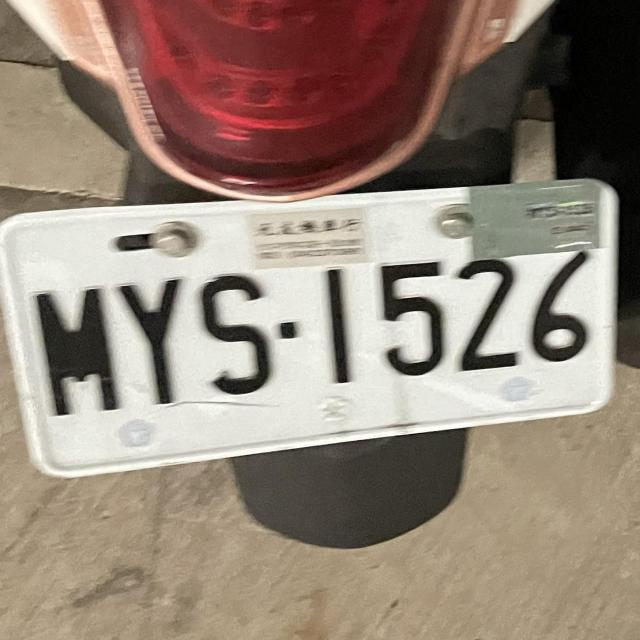W: (1, 178, 624, 483)
